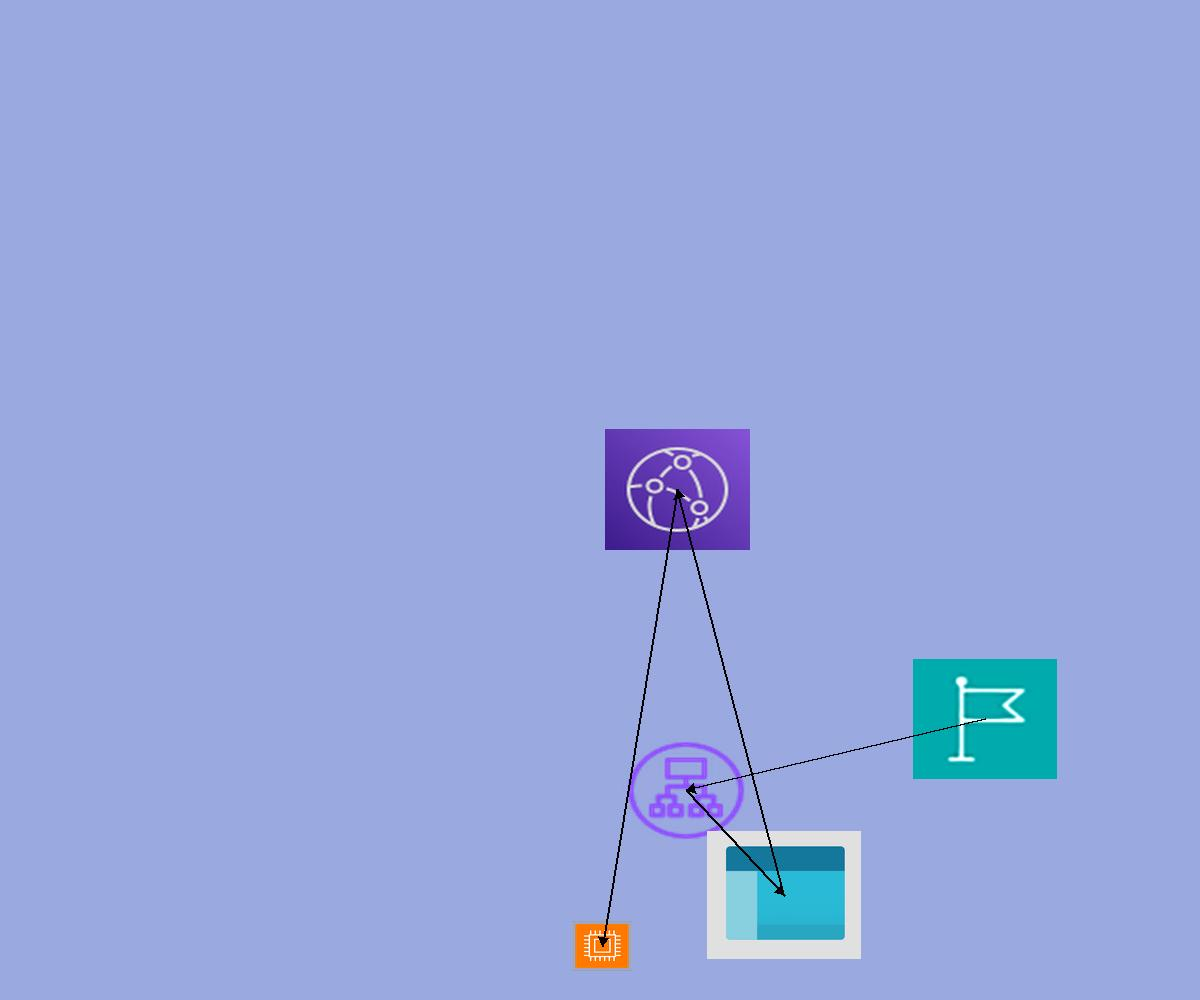AWS-Category_Compute: (572, 921, 632, 971)
AWS-CloudFront: (605, 429, 750, 550)
AWS-Region: (913, 659, 1057, 779)
AWS-Res_Elastic-Load-Balancing_Application-Load-Balancer: (623, 738, 749, 843)
Azure_management-portal: (707, 831, 861, 959)
